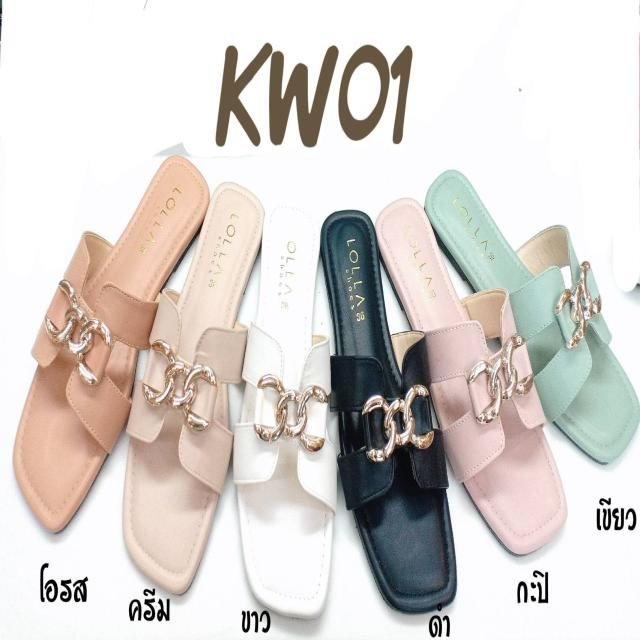black: (321, 207, 456, 609)
cream: (124, 179, 263, 592)
green: (426, 167, 640, 463)
kapi: (379, 199, 565, 553)
orot: (14, 151, 210, 527)
white: (241, 200, 332, 618)
